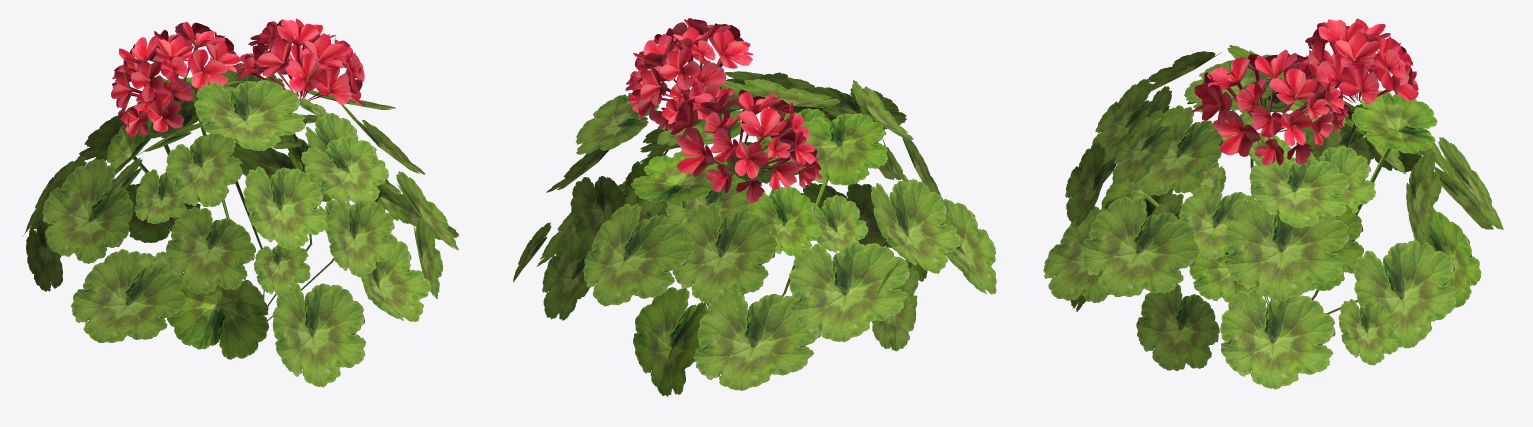
File: Geranium.fbx
The picture shows the model from 3 angles, left to right: view 1: azimuth 30°, elevation 25°; view 2: azimuth 150°, elevation 25°; view 3: azimuth 270°, elevation 25°; orthographic projection. The views are drawn at different scales.
Parts seen in each view (by area): view 1: Geranium, flor1.001, flor1.002; view 2: Geranium, flor1.001, flor1.002; view 3: Geranium, flor1.002, flor1.001.
Boxes of the visible parts, box(x1,y1,x2,y2) form: Geranium: box(22, 65, 458, 387); flor1.001: box(111, 21, 241, 136); flor1.002: box(234, 18, 364, 105); Geranium: box(513, 71, 996, 396); flor1.001: box(665, 88, 821, 202); flor1.002: box(625, 18, 753, 130); Geranium: box(1043, 45, 1503, 389); flor1.002: box(1190, 50, 1350, 165); flor1.001: box(1298, 18, 1418, 104).
Bounding box in the file's own units: 288 × 199 × 274.
